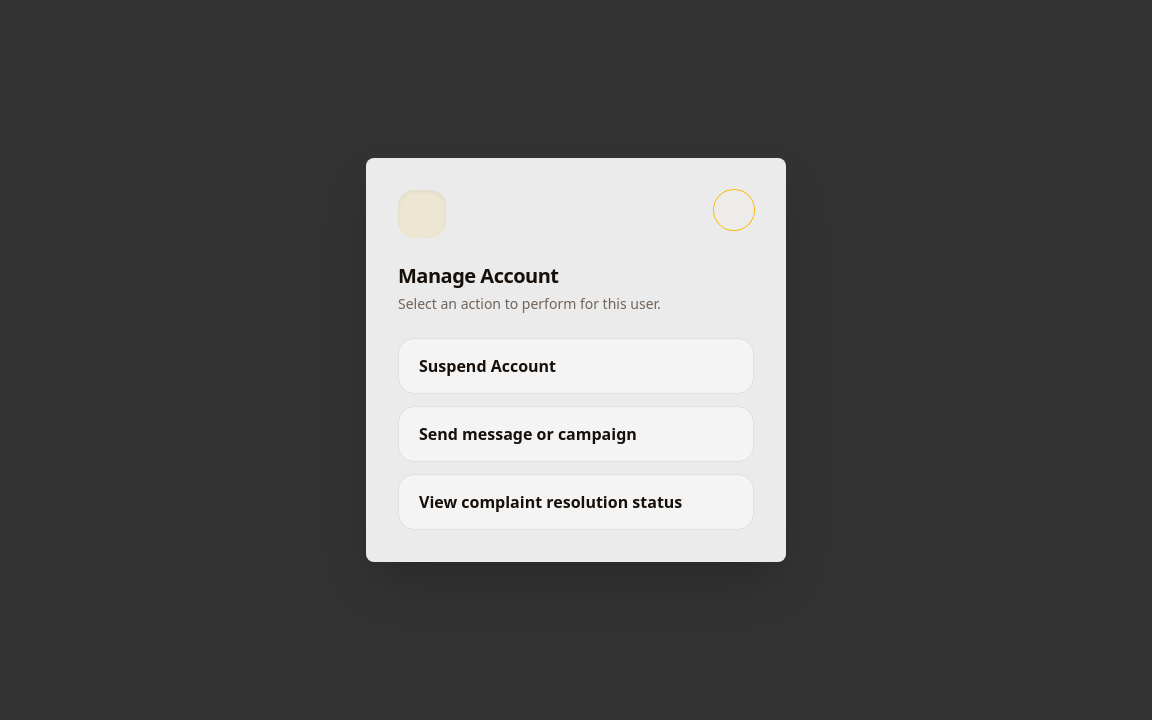
Test case: suspend › suspends with the trimmed reason and closes
Later steps or results of the test are not shown.
Click the button "Suspend Account" at {"x": 488, "y": 366}, box [398,338,754,394]
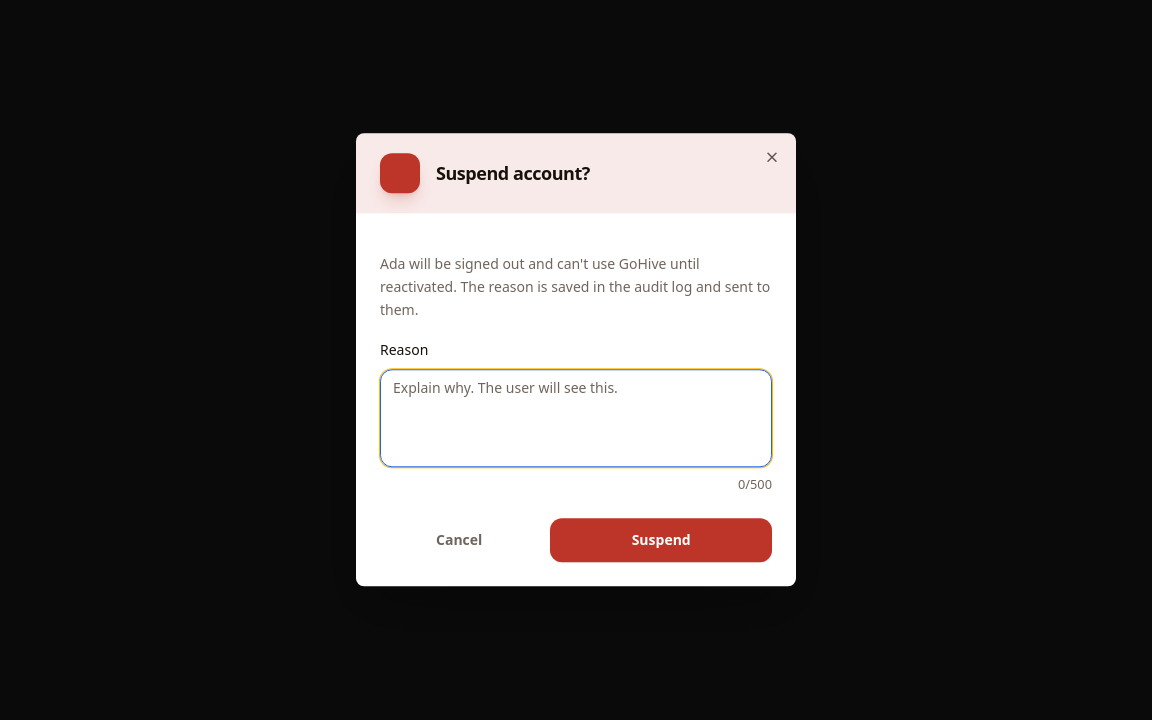
Now the heading "Suspend account?" is shown, box [436,159,590,187]
